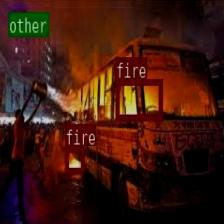fire: (115, 78, 162, 119), (64, 145, 83, 172)
